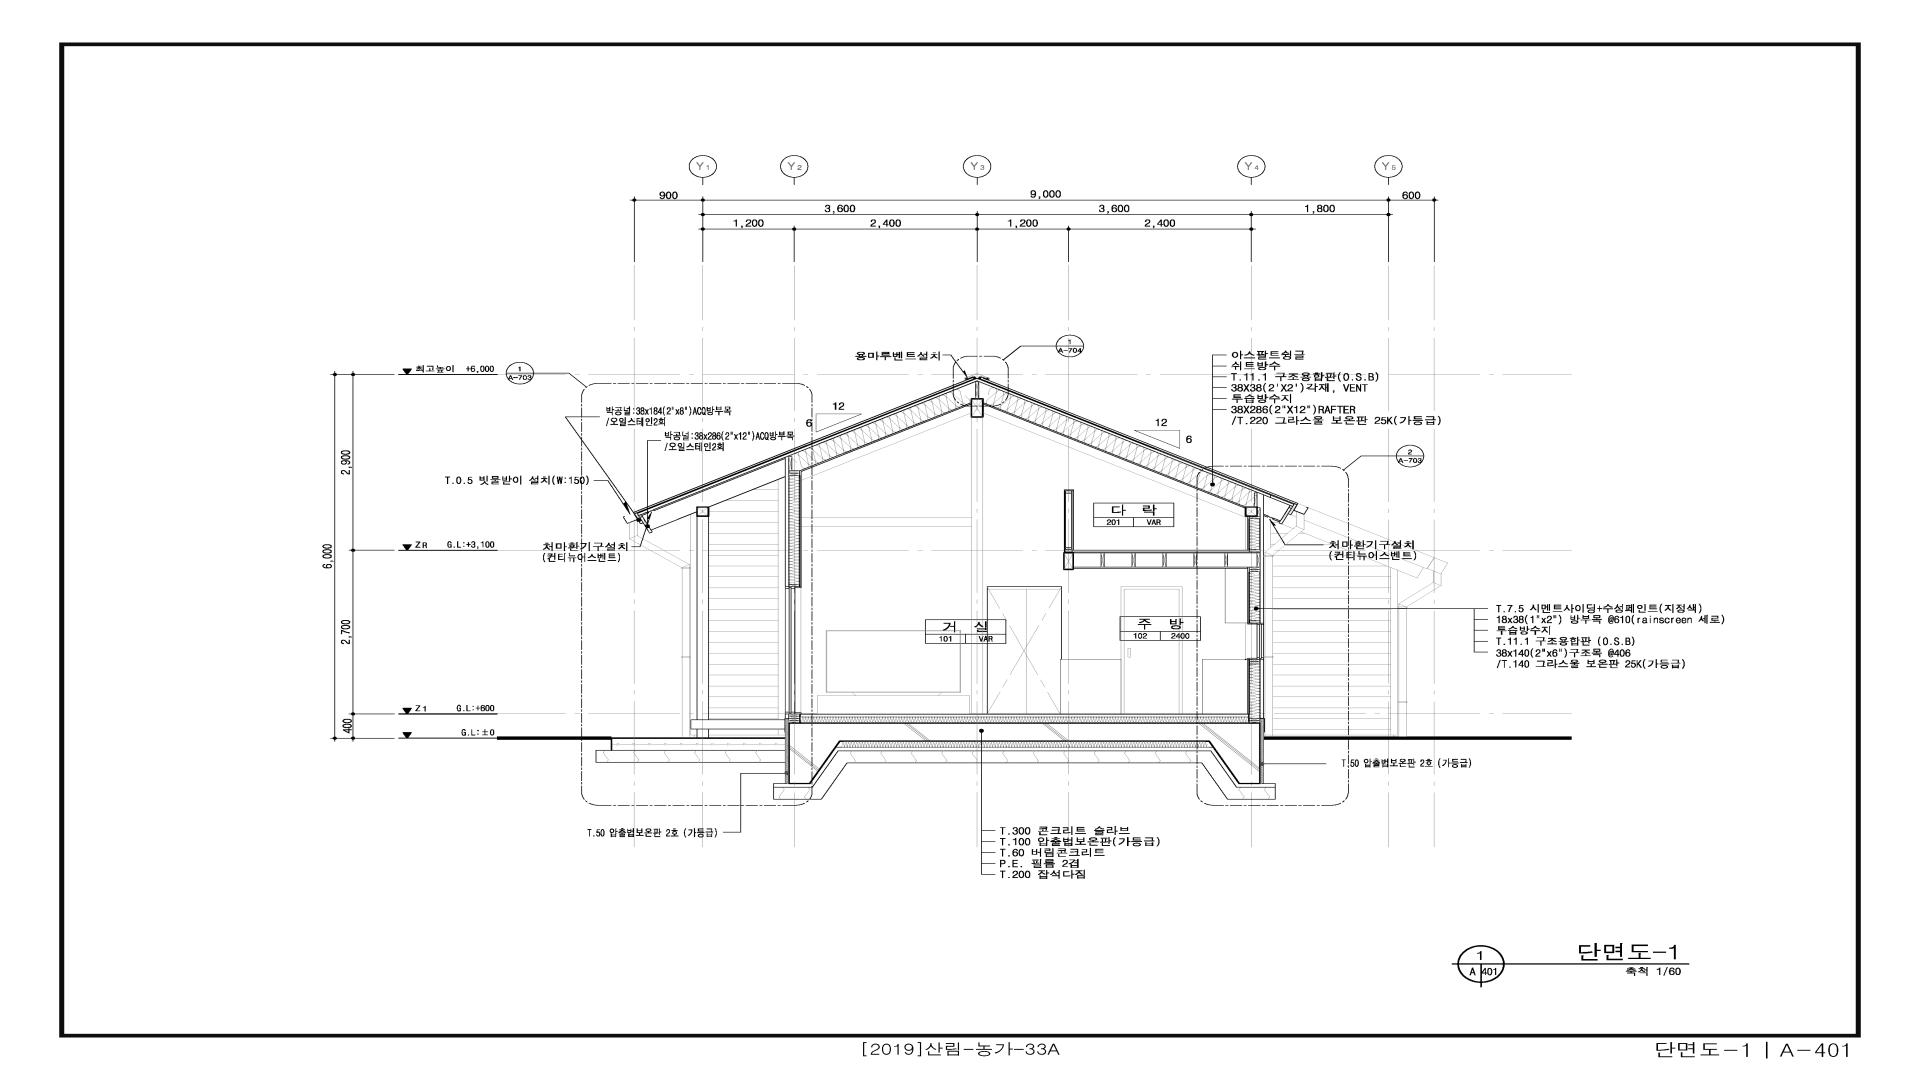door: (1121, 587, 1183, 713)
wall: (634, 376, 1435, 737), (789, 723, 1261, 785), (773, 746, 1275, 787), (1063, 489, 1259, 570)
window: (785, 585, 802, 713), (1246, 622, 1265, 659)
